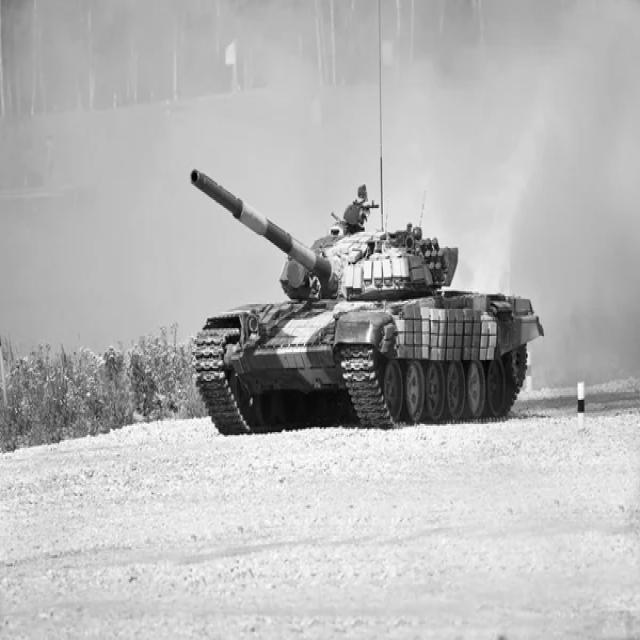Tank: (181, 159, 551, 419)
